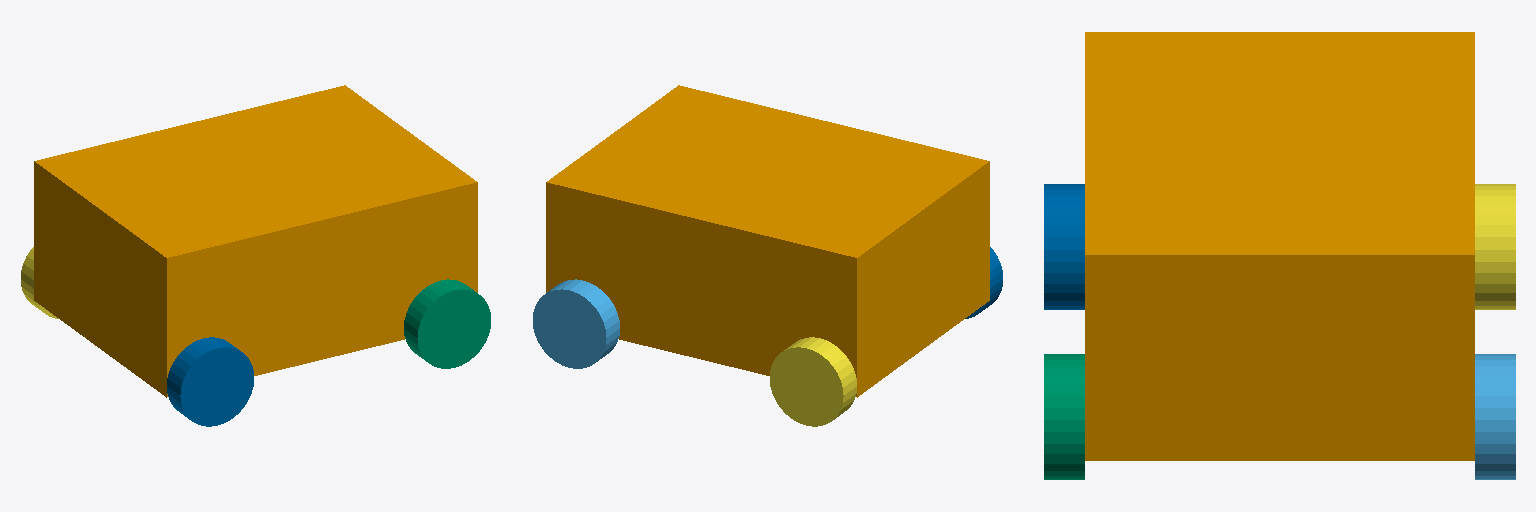
The robot description file, URDF, robot "pathfinder":
<?xml version="1.0"?>
<robot name="pathfinder">
  <link name="base_link">
    <visual><geometry><box size="0.42 0.31 0.18"/></geometry></visual>
    <collision><geometry><box size="0.42 0.31 0.18"/></geometry></collision>
    <inertial><mass value="3.4000"/><inertia ixx="0.036408" ixy="0" ixz="0" iyy="0.059160" iyz="0" izz="0.077208"/></inertial>
  </link>
  <link name="wheel_0_left">
    <visual><origin rpy="1.5708 0 0"/><geometry><cylinder radius="0.05" length="0.032"/></geometry></visual>
    <collision><origin rpy="1.5708 0 0"/><geometry><cylinder radius="0.05" length="0.032"/></geometry></collision>
    <inertial><mass value="0.1250"/><inertia ixx="0.000115" ixy="0" ixz="0" iyy="0.000208" iyz="0" izz="0.000115"/></inertial>
  </link>
  <joint name="wheel_0_left_joint" type="continuous">
    <parent link="base_link"/><child link="wheel_0_left"/>
    <origin xyz="0.15999999999999998 0.17099999999999999 -0.075"/>
    <axis xyz="0 1 0"/>
  </joint>
  <link name="wheel_1_right">
    <visual><origin rpy="1.5708 0 0"/><geometry><cylinder radius="0.05" length="0.032"/></geometry></visual>
    <collision><origin rpy="1.5708 0 0"/><geometry><cylinder radius="0.05" length="0.032"/></geometry></collision>
    <inertial><mass value="0.1250"/><inertia ixx="0.000115" ixy="0" ixz="0" iyy="0.000208" iyz="0" izz="0.000115"/></inertial>
  </link>
  <joint name="wheel_1_right_joint" type="continuous">
    <parent link="base_link"/><child link="wheel_1_right"/>
    <origin xyz="0.15999999999999998 -0.17099999999999999 -0.075"/>
    <axis xyz="0 1 0"/>
  </joint>
  <link name="wheel_2_left">
    <visual><origin rpy="1.5708 0 0"/><geometry><cylinder radius="0.05" length="0.032"/></geometry></visual>
    <collision><origin rpy="1.5708 0 0"/><geometry><cylinder radius="0.05" length="0.032"/></geometry></collision>
    <inertial><mass value="0.1250"/><inertia ixx="0.000115" ixy="0" ixz="0" iyy="0.000208" iyz="0" izz="0.000115"/></inertial>
  </link>
  <joint name="wheel_2_left_joint" type="continuous">
    <parent link="base_link"/><child link="wheel_2_left"/>
    <origin xyz="-0.15999999999999998 0.17099999999999999 -0.075"/>
    <axis xyz="0 1 0"/>
  </joint>
  <link name="wheel_3_right">
    <visual><origin rpy="1.5708 0 0"/><geometry><cylinder radius="0.05" length="0.032"/></geometry></visual>
    <collision><origin rpy="1.5708 0 0"/><geometry><cylinder radius="0.05" length="0.032"/></geometry></collision>
    <inertial><mass value="0.1250"/><inertia ixx="0.000115" ixy="0" ixz="0" iyy="0.000208" iyz="0" izz="0.000115"/></inertial>
  </link>
  <joint name="wheel_3_right_joint" type="continuous">
    <parent link="base_link"/><child link="wheel_3_right"/>
    <origin xyz="-0.15999999999999998 -0.17099999999999999 -0.075"/>
    <axis xyz="0 1 0"/>
  </joint>
</robot>

--- Facts derived from the render (not from the file) ---
Views: 3 orthographic renders of the robot side by side, from view 1: azimuth 30°, elevation 25°; view 2: azimuth 150°, elevation 25°; view 3: azimuth 270°, elevation 25°.
Model pathfinder with 5 links and 4 joints (4 continuous), rooted at base_link, posed every joint at zero.
Links seen in each view (by area): view 1: base_link, wheel_1_right, wheel_3_right, wheel_2_left; view 2: base_link, wheel_0_left, wheel_2_left, wheel_3_right; view 3: base_link, wheel_0_left, wheel_1_right, wheel_2_left, wheel_3_right.
Boxes of the visible links, x1,y1,x2,y2 form: base_link: (34, 85, 477, 397); wheel_1_right: (404, 279, 490, 368); wheel_3_right: (167, 337, 253, 426); wheel_2_left: (21, 247, 58, 318); base_link: (546, 85, 989, 397); wheel_0_left: (533, 279, 619, 368); wheel_2_left: (770, 337, 856, 426); wheel_3_right: (965, 247, 1002, 318); base_link: (1085, 32, 1474, 460); wheel_0_left: (1475, 354, 1515, 479); wheel_1_right: (1044, 354, 1084, 479); wheel_2_left: (1475, 184, 1515, 309); wheel_3_right: (1044, 184, 1084, 309).
Bounding box of the posed robot: 0.42 × 0.374 × 0.215 m (x, y, z).
Geometry: primitives only (box / cylinder / sphere), no mesh files.
